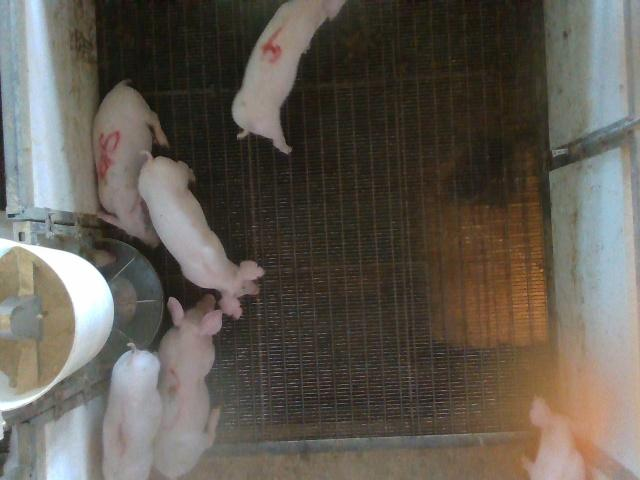pig-1: (102, 344, 162, 479)
pig-3: (154, 295, 222, 478)
pig-4: (232, 0, 344, 153)
pig-5: (92, 80, 169, 246)
